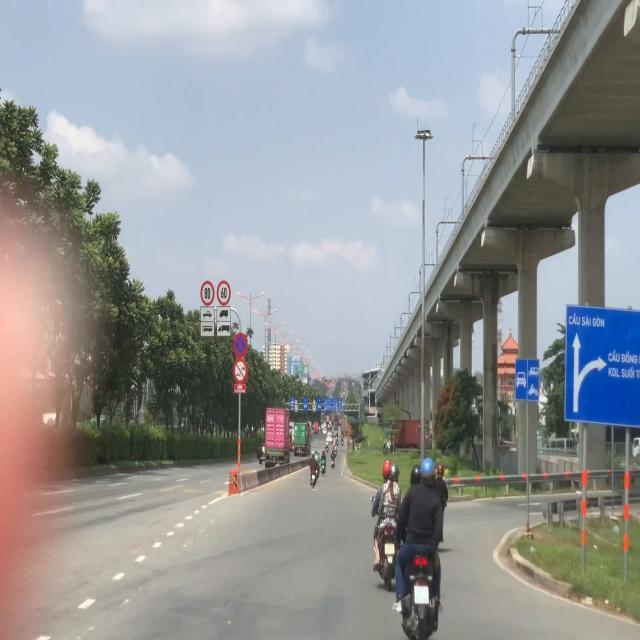Cam con lai: (234, 362, 247, 384)
Cam dung va do: (233, 332, 248, 358)
Toc do toi da: (216, 280, 232, 306), (200, 280, 215, 306)
